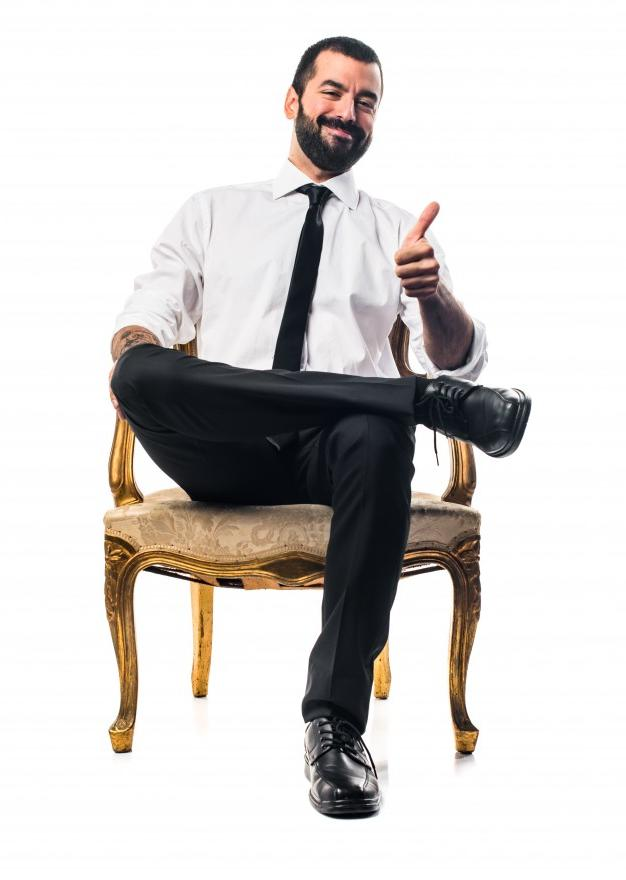thumbsup: (394, 201, 440, 297)
